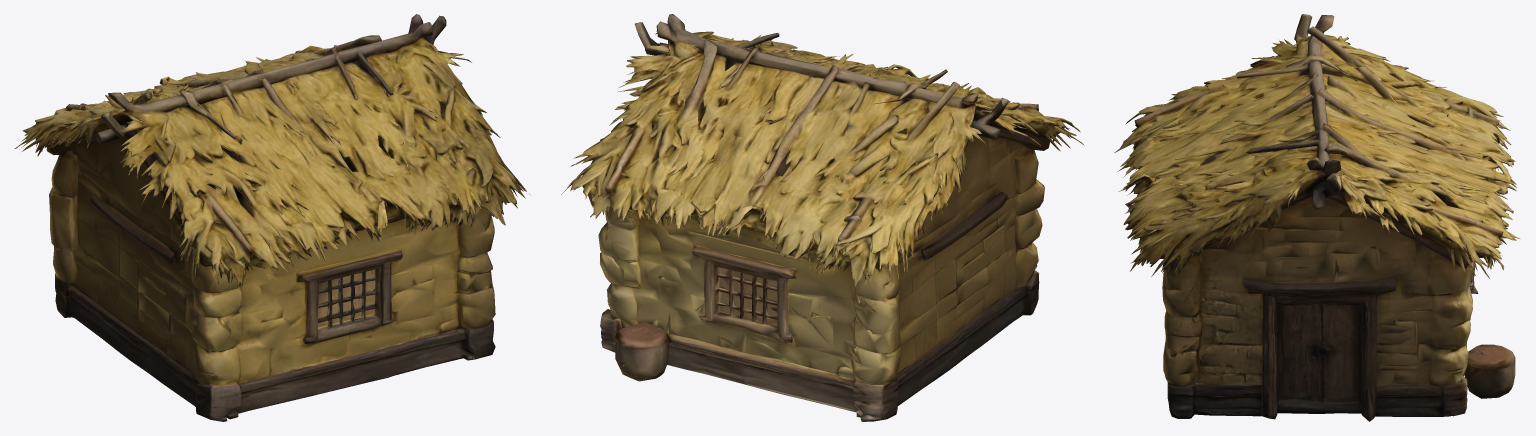
File: hut-mid.glb
3 renders of one model, left to right at view 1: azimuth 30°, elevation 25°; view 2: azimuth 150°, elevation 25°; view 3: azimuth 270°, elevation 25°, orthographic. The views are drawn at different scales.
Bounding box in the file's own units: 0.9811 × 0.7165 × 0.9989.
1 material, 1 textured.
